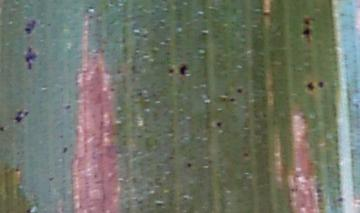tarspot: (23, 44, 39, 71), (23, 18, 38, 35), (14, 109, 29, 124), (178, 63, 188, 77), (301, 27, 310, 41), (152, 199, 164, 208), (305, 80, 314, 91), (260, 10, 273, 17), (241, 149, 250, 159), (198, 29, 209, 37), (63, 102, 72, 111), (316, 80, 326, 88), (215, 119, 223, 129), (168, 67, 176, 77), (303, 17, 310, 26), (336, 195, 345, 202), (24, 207, 34, 213), (235, 86, 242, 94), (228, 97, 236, 104), (62, 146, 69, 153), (47, 176, 55, 182), (185, 162, 193, 167), (1, 125, 3, 133)
